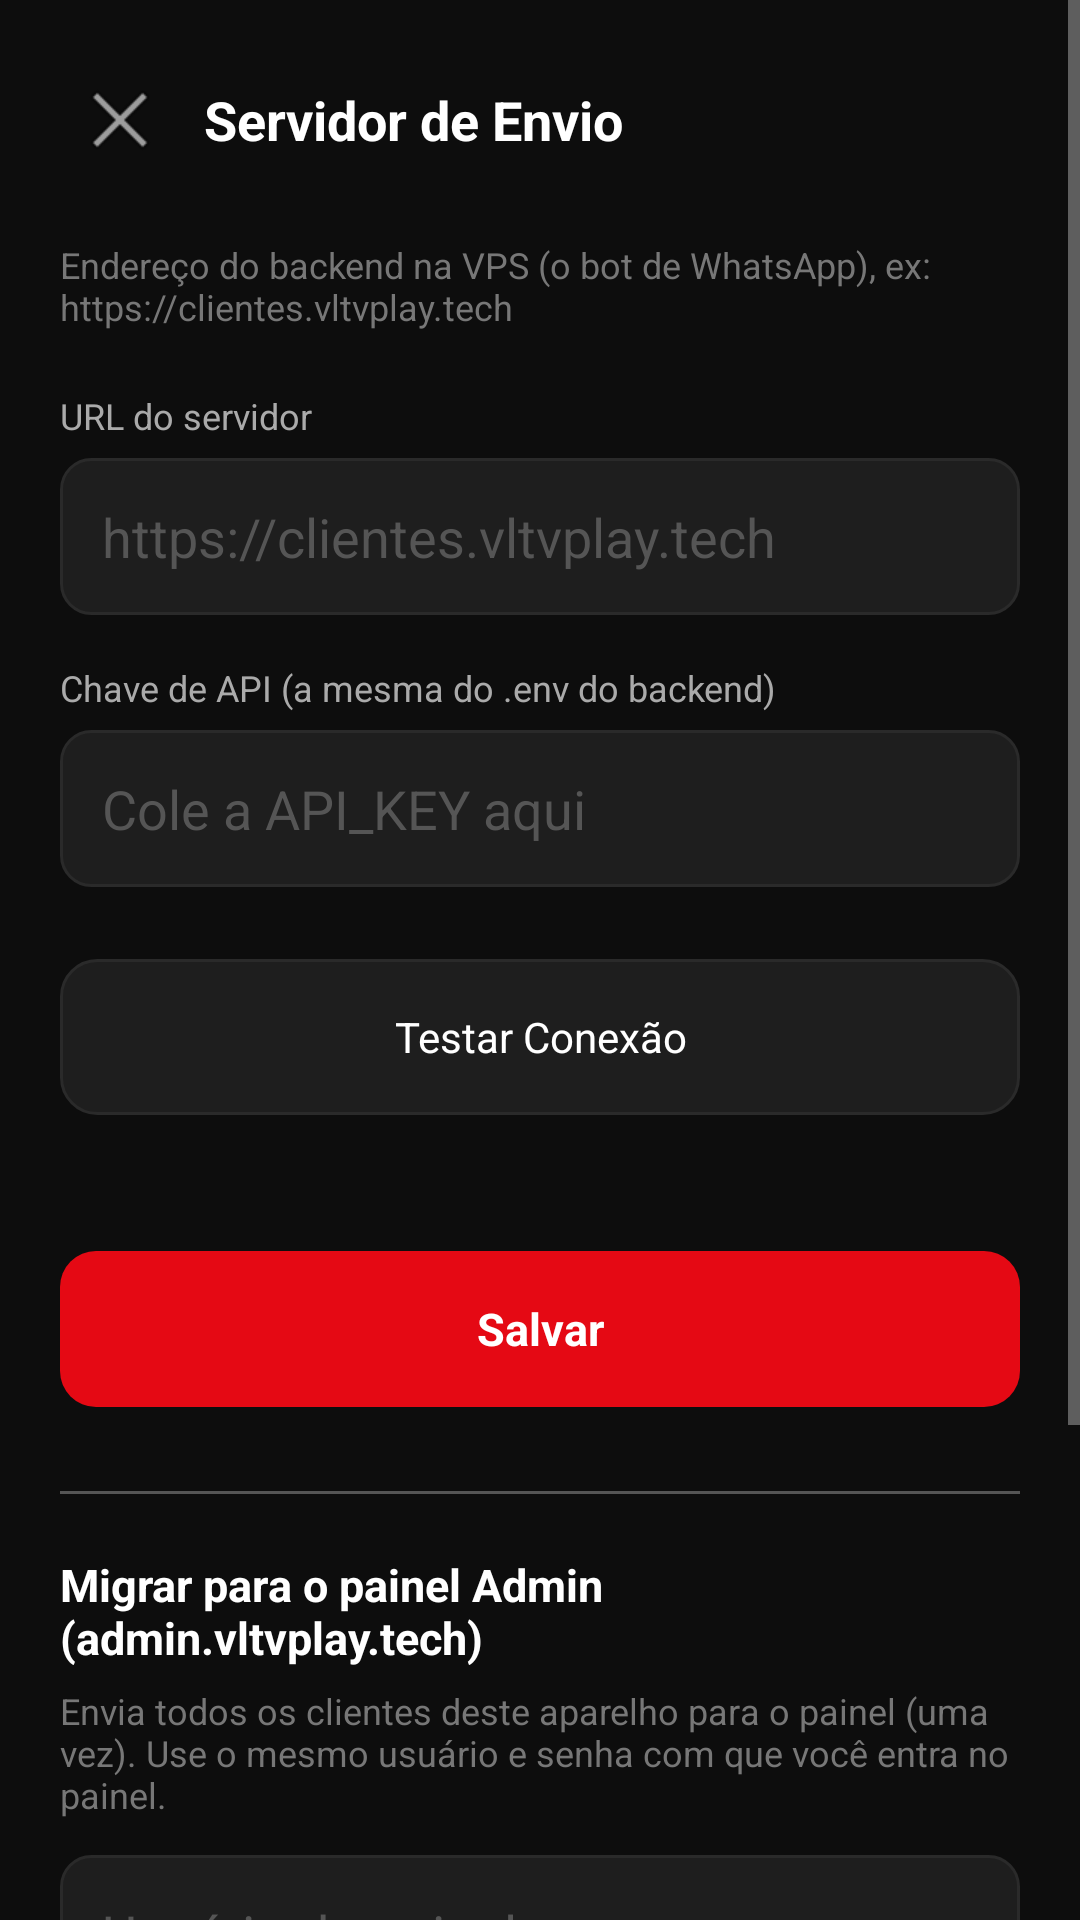

Screen size 1080 x 1920. Icon name, then its box in pixels as rect(x1, y1, x2, y2):
Voltar: rect(93, 93, 147, 147)
